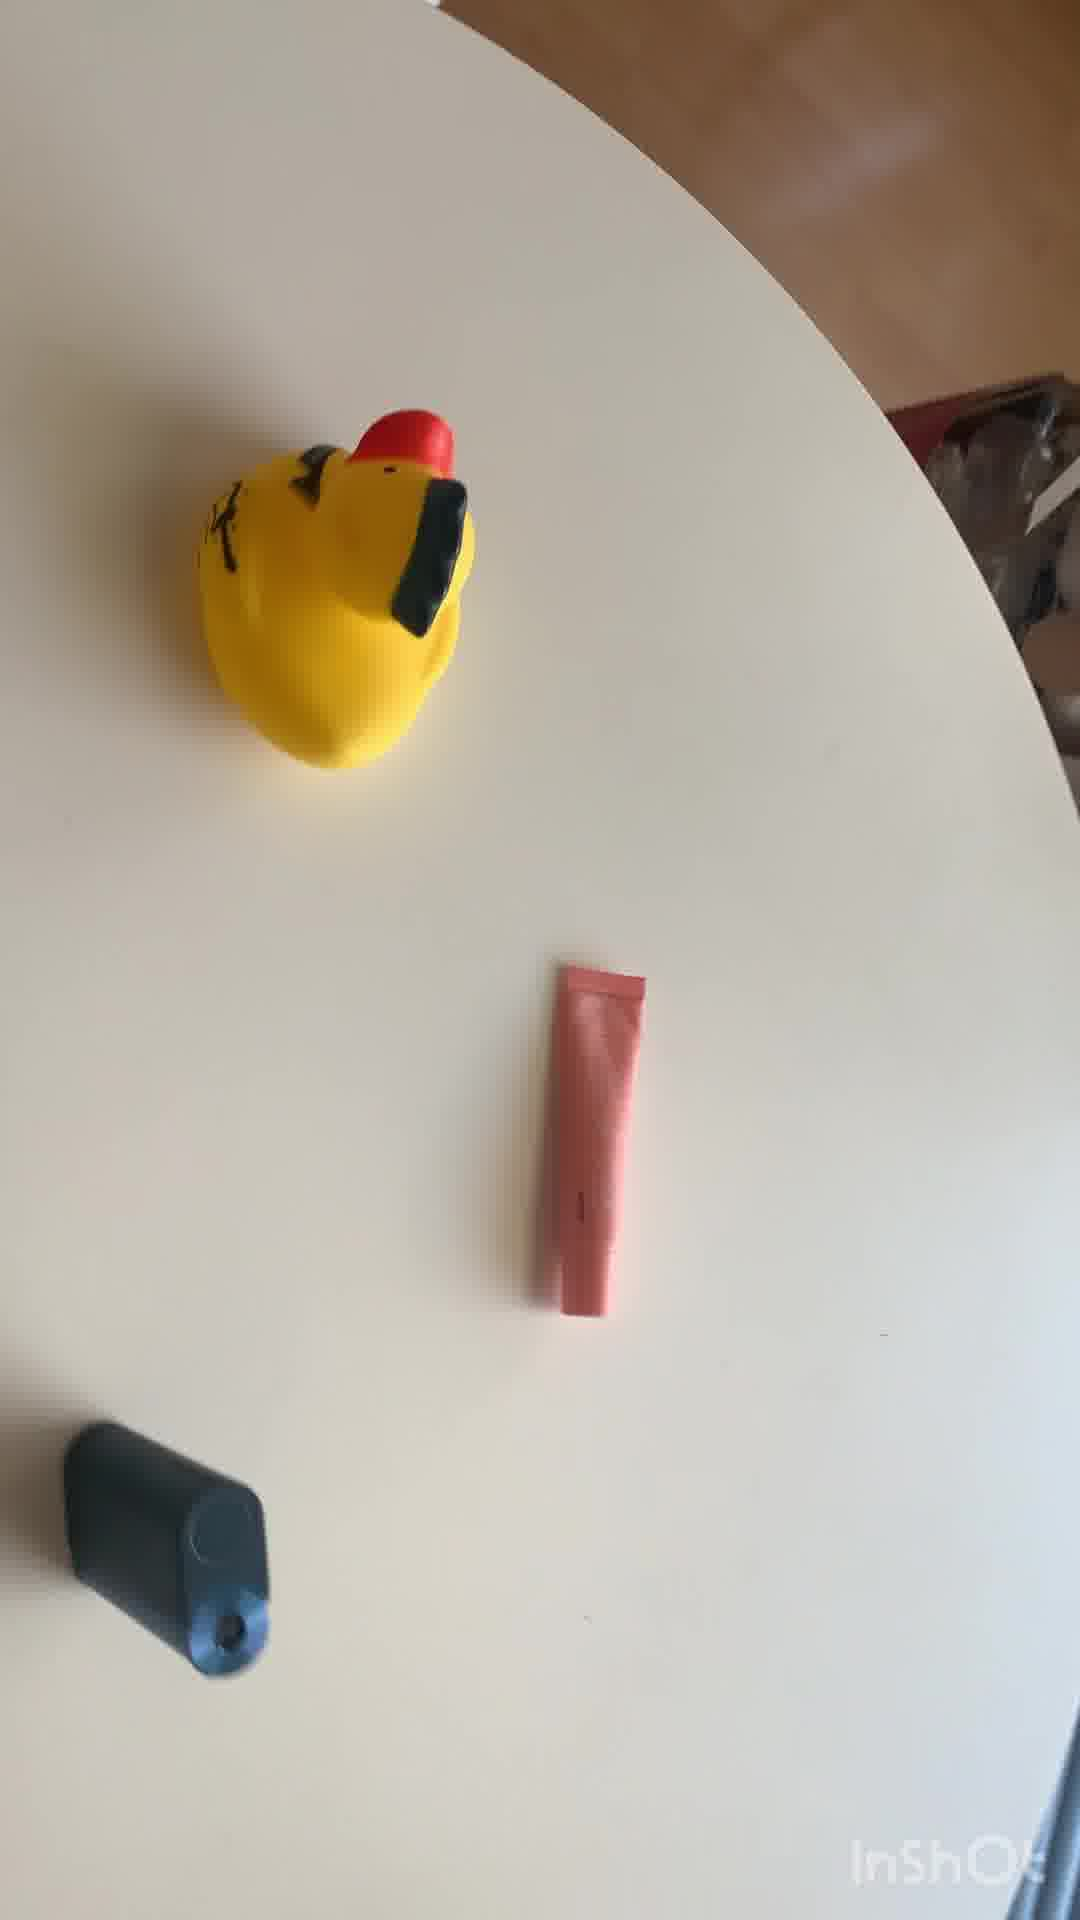duck: (198, 404, 472, 777)
glo: (51, 1423, 287, 1687)
lip balm: (521, 957, 649, 1323)
